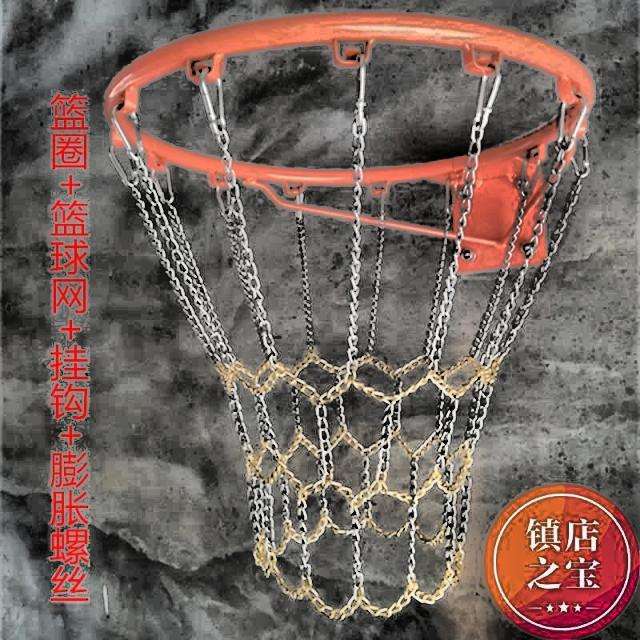rim: (105, 14, 598, 620)
